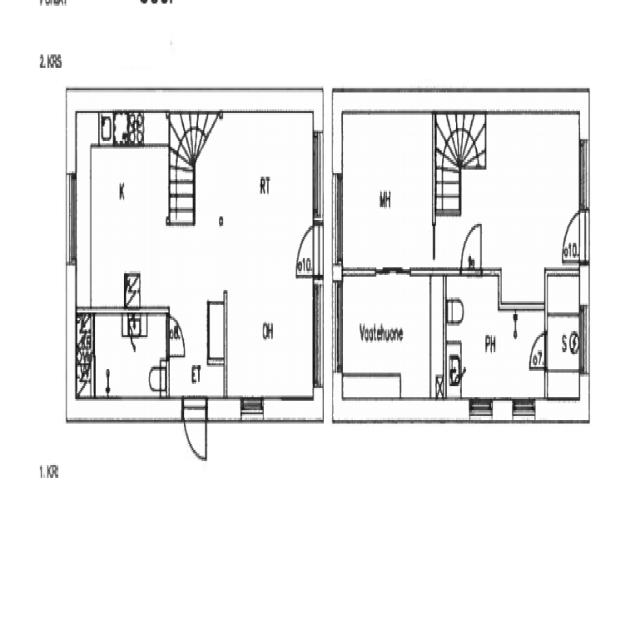door: (182, 396, 208, 464), (560, 205, 586, 264), (458, 218, 485, 272), (294, 222, 318, 274)
window: (63, 166, 81, 272), (310, 125, 325, 224), (332, 273, 345, 383), (576, 133, 591, 214), (239, 394, 265, 422), (489, 394, 515, 419), (468, 397, 494, 421)
zone: (191, 108, 317, 277), (75, 108, 175, 309), (477, 108, 583, 269), (341, 110, 435, 272), (444, 277, 546, 405), (225, 270, 317, 402), (340, 270, 435, 393), (78, 309, 172, 405), (545, 268, 583, 388)
